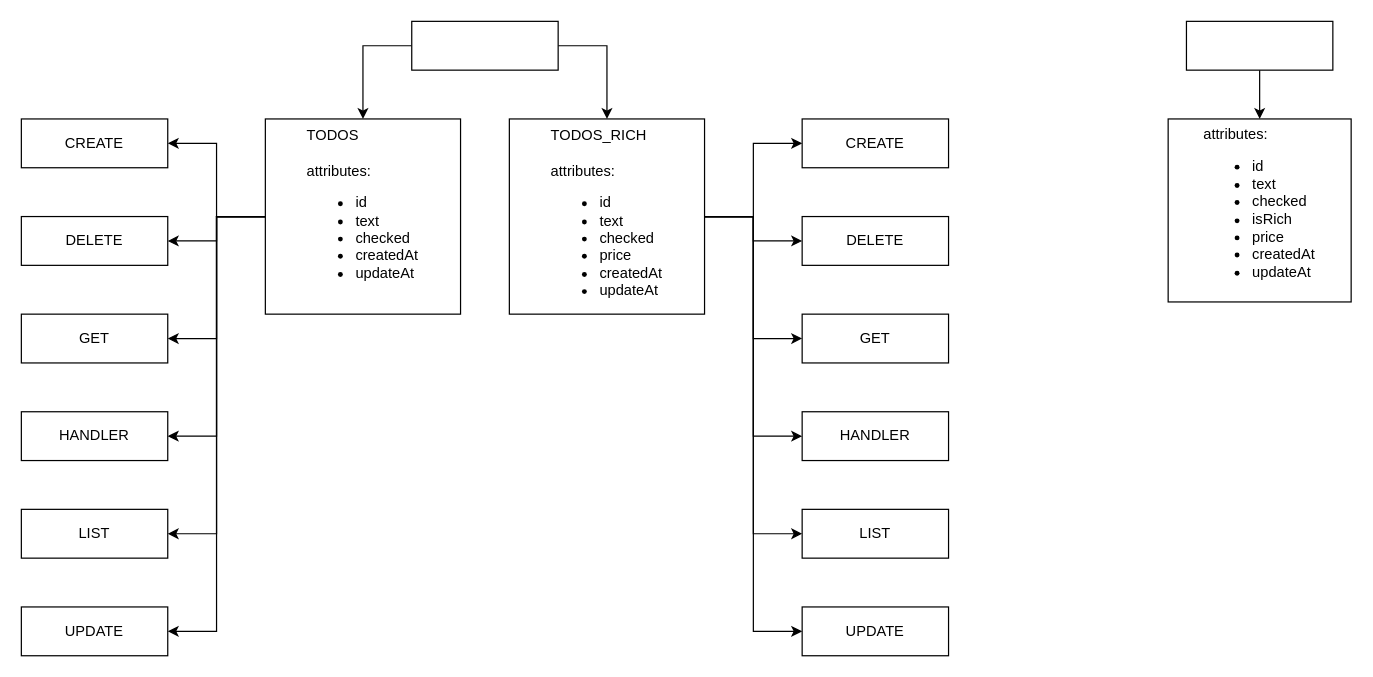
Image size: 1373x677. Some labels were removed from this diagram. The shapes that lost their labels are listed below. From the top down, each one's centre as x and y in pixels, then its label:
the point at 484,45: Service pattern
the point at 1259,45: Monolitich pattern
